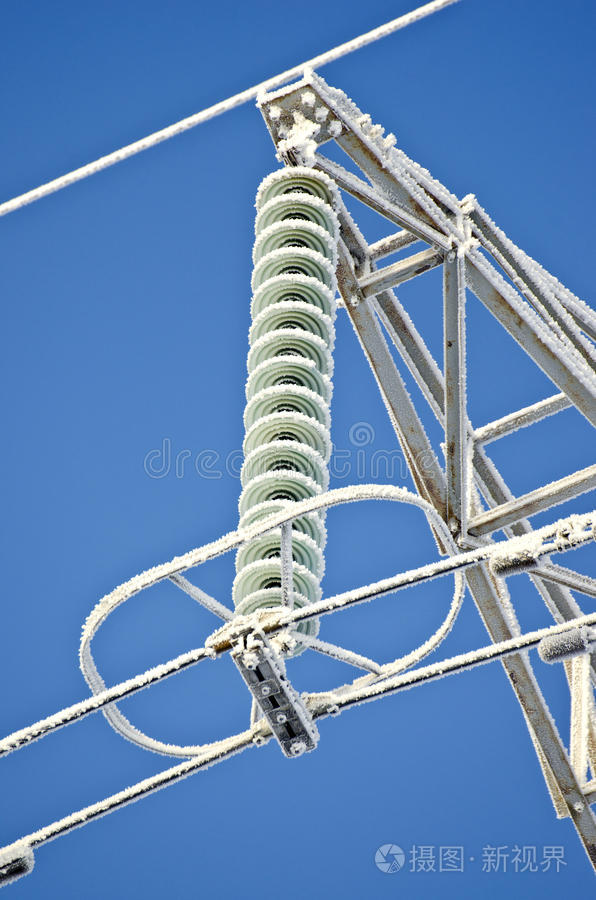insulator: (230, 166, 340, 638)
